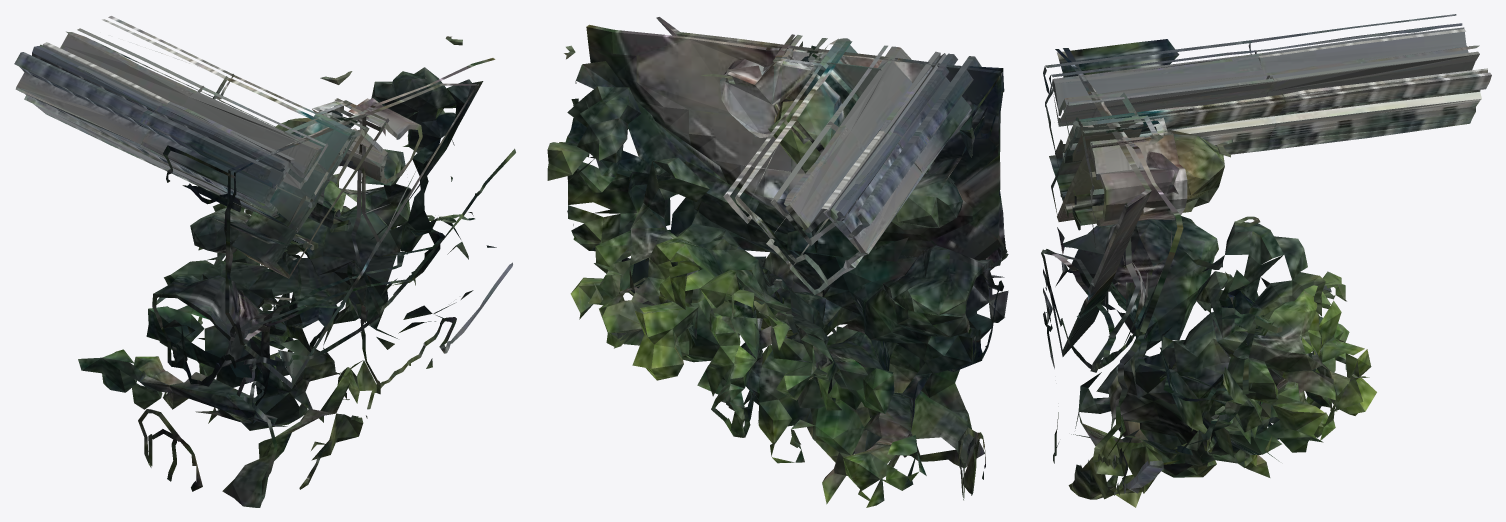
3 views of the same model, side by side, from view 1: azimuth 30°, elevation 25°; view 2: azimuth 150°, elevation 25°; view 3: azimuth 270°, elevation 25° (orthographic). The views are drawn at different scales.
Visible parts, largest first — view 1: world; view 2: world; view 3: world.
Boxes of the visible parts, <box> form: world: <box>14,16,515,507</box>; world: <box>547,17,1008,507</box>; world: <box>1041,14,1491,507</box>.
Size of the model in its own units: 43.67 by 39.4 by 39.23.
Materials: 1 (1 with a texture image).
